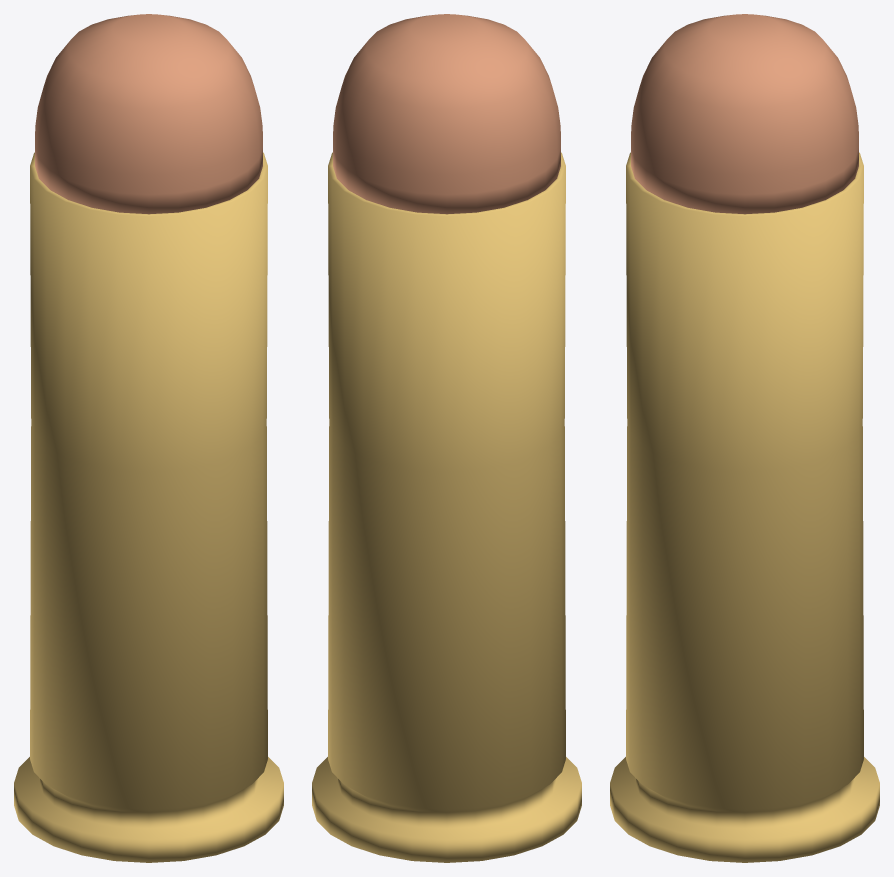
File: 454_std.glb
3 renders of one model, left to right at view 1: azimuth 30°, elevation 25°; view 2: azimuth 150°, elevation 25°; view 3: azimuth 270°, elevation 25°, orthographic.
Visible parts, largest first — view 1: vaina, bala; view 2: vaina, bala; view 3: vaina, bala.
Boxes of the visible parts, x1,y1,x2,y2 form: vaina: [14, 152, 283, 862]; bala: [35, 14, 262, 214]; vaina: [312, 152, 581, 862]; bala: [333, 14, 560, 214]; vaina: [610, 152, 879, 862]; bala: [631, 14, 858, 214].
Size of the model in its own units: 0.0136 by 0.0432 by 0.0136.
